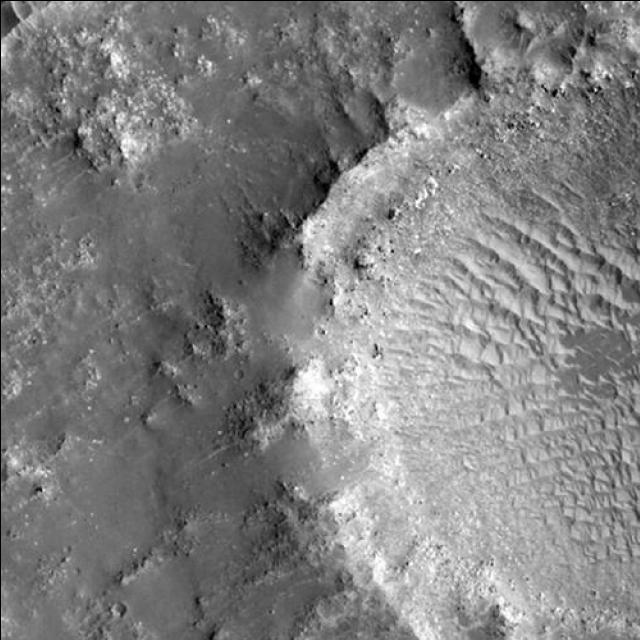crater: (223, 55, 640, 640)
